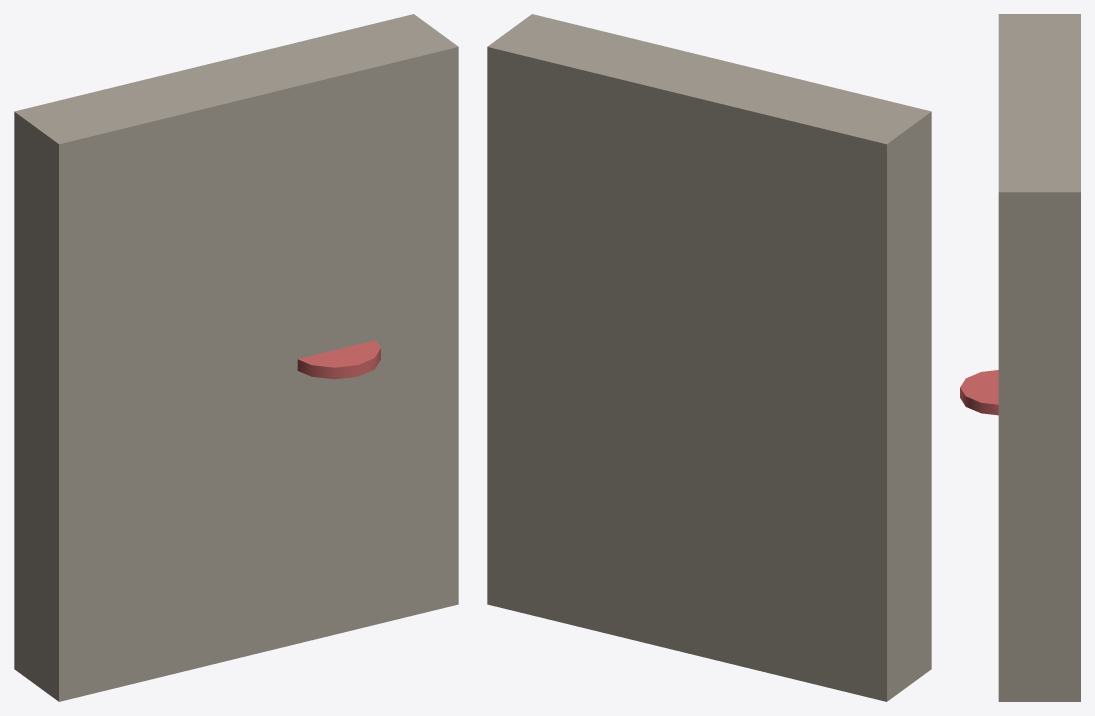
File: tunnel_door.glb
3 renders of one model, left to right at view 1: azimuth 30°, elevation 25°; view 2: azimuth 150°, elevation 25°; view 3: azimuth 270°, elevation 25°, orthographic. The views are drawn at different scales.
Parts seen in each view (by area): view 1: Frame, Wheel; view 2: Frame; view 3: Frame, Wheel.
Boxes of the visible parts, bbox=[...] form: Frame: bbox=[14, 14, 458, 701]; Wheel: bbox=[297, 340, 380, 379]; Frame: bbox=[487, 14, 931, 701]; Frame: bbox=[998, 14, 1080, 701]; Wheel: bbox=[960, 370, 998, 415].
Bounding box in the file's own units: 1.8 × 2.4 × 0.515.
